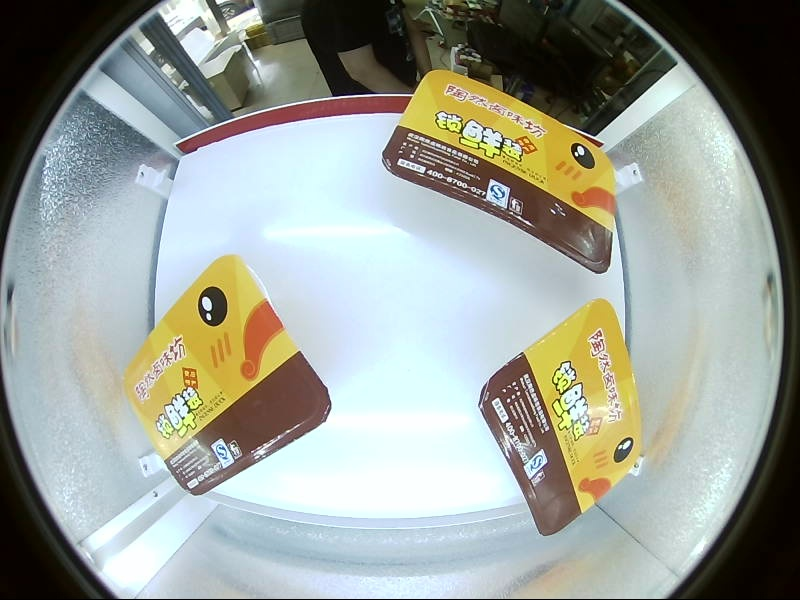ops-m155: (366, 179, 564, 479), (192, 173, 377, 466), (284, 199, 525, 422), (120, 254, 332, 497), (381, 133, 626, 342), (326, 327, 537, 564), (381, 308, 575, 557), (204, 323, 399, 561), (477, 295, 645, 539), (363, 113, 575, 306), (452, 162, 650, 363), (376, 268, 566, 477), (365, 118, 573, 295), (482, 209, 661, 412), (456, 202, 630, 403), (128, 381, 322, 556), (459, 389, 652, 557), (458, 384, 651, 550), (456, 70, 648, 236), (346, 202, 494, 414), (289, 227, 435, 432), (221, 289, 377, 480), (400, 203, 540, 412), (377, 133, 580, 275), (294, 122, 496, 264), (407, 289, 596, 434), (418, 195, 552, 398), (287, 194, 419, 397), (395, 304, 536, 487), (301, 114, 438, 298), (428, 114, 566, 294), (418, 318, 549, 502), (472, 294, 596, 483), (485, 211, 644, 357), (475, 227, 632, 370), (470, 120, 631, 250), (526, 326, 643, 497), (468, 118, 626, 243), (537, 214, 637, 405), (518, 126, 629, 291), (523, 300, 626, 473)
